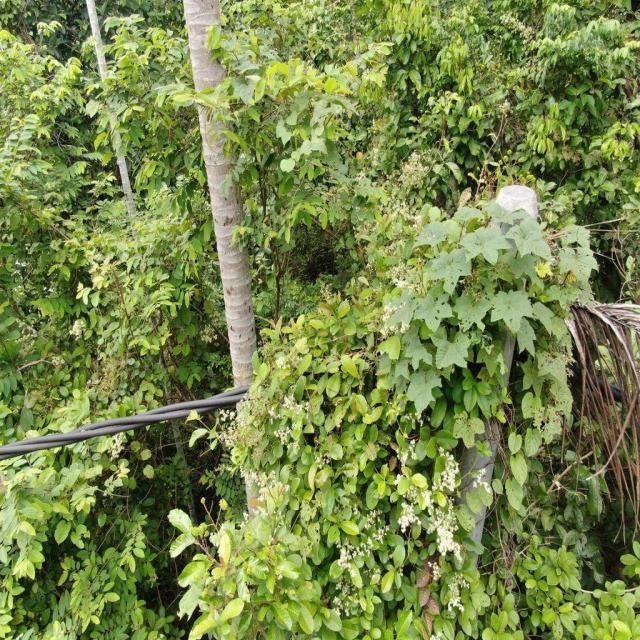critical vegetation: (277, 178, 612, 527)
